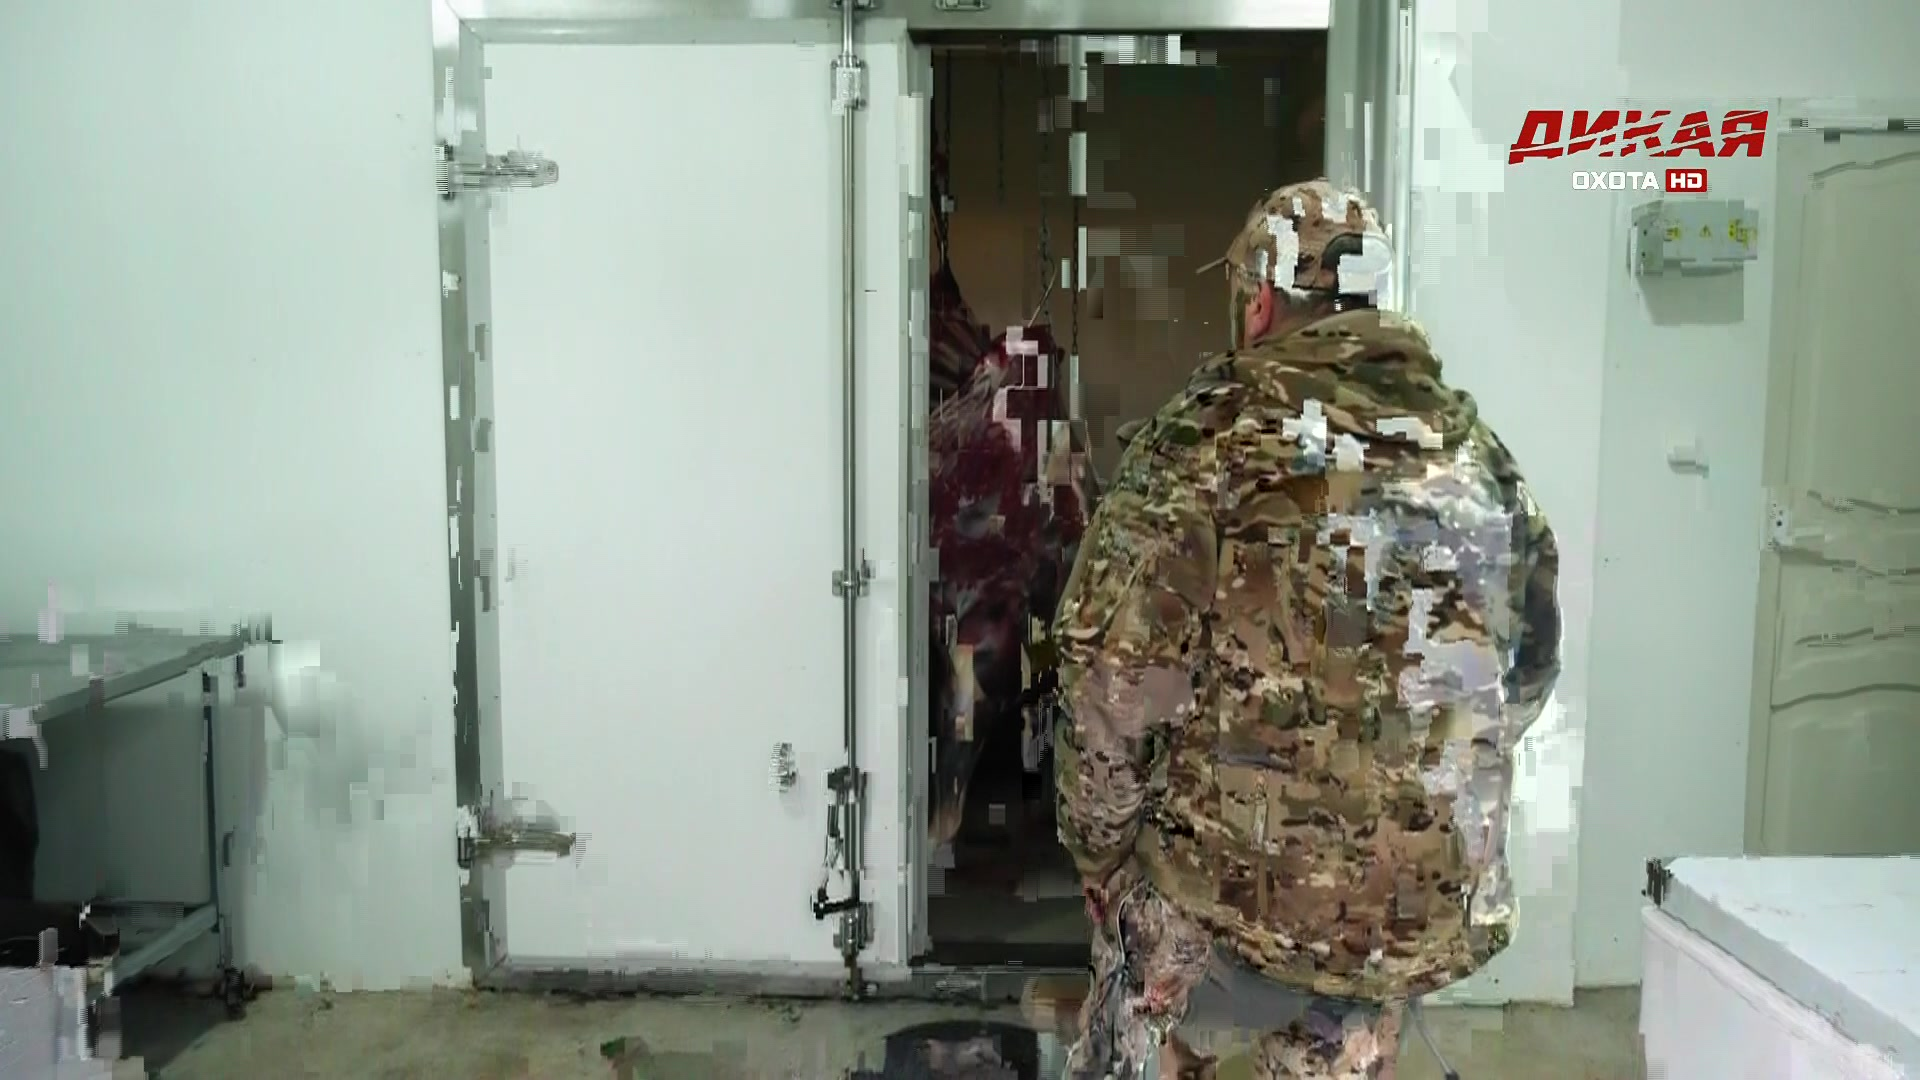Dikaya_Ohota_HD: (1501, 105, 1771, 199)
